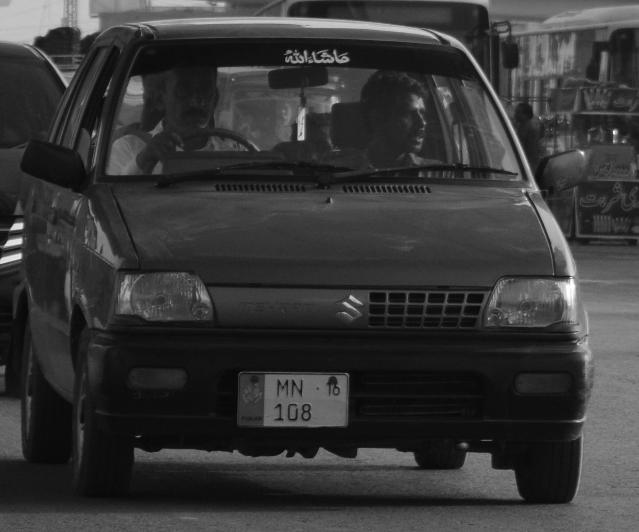Number: (270, 380, 316, 424)
